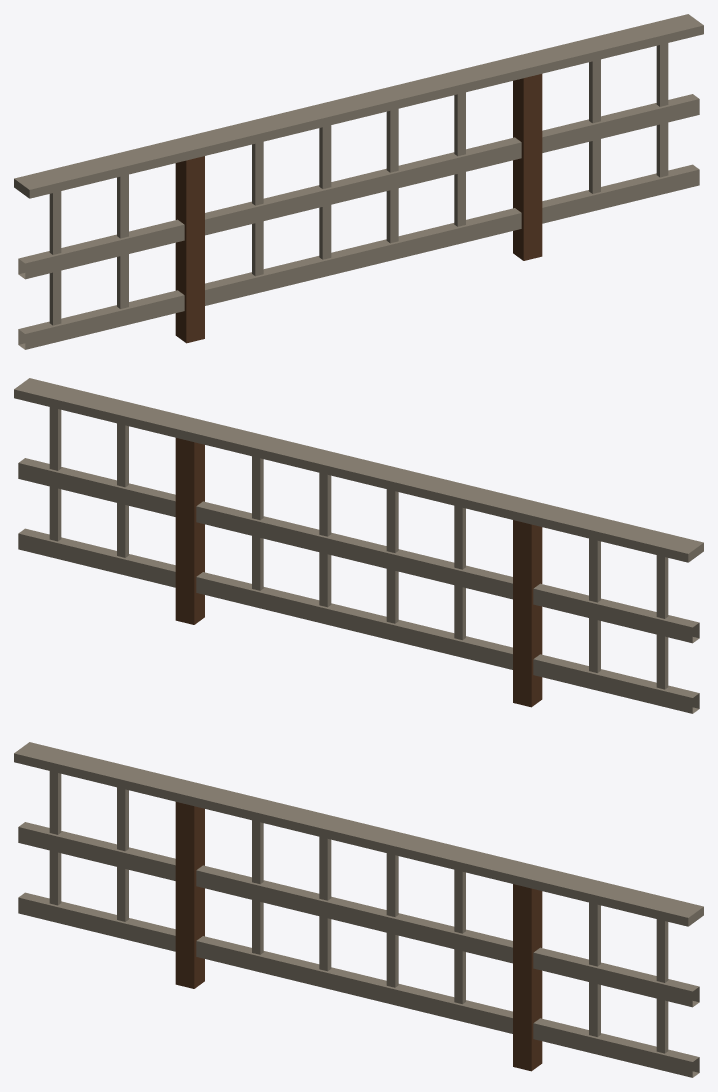
File: prop_pier_rail.glb
3 renders of one model, top to bottom at view 1: azimuth 30°, elevation 25°; view 2: azimuth 150°, elevation 25°; view 3: azimuth 330°, elevation 25°, orthographic.
Visible parts, largest first — view 1: prop_pier_rail__mesh; view 2: prop_pier_rail__mesh; view 3: prop_pier_rail__mesh.
Boxes of the visible parts, x1=… form: prop_pier_rail__mesh: x1=14, y1=14, x2=703, y2=349; prop_pier_rail__mesh: x1=14, y1=378, x2=703, y2=713; prop_pier_rail__mesh: x1=14, y1=742, x2=703, y2=1077.
Bounding box in the file's own units: 4 × 1.1 × 0.16.
1 material, 1 textured.
